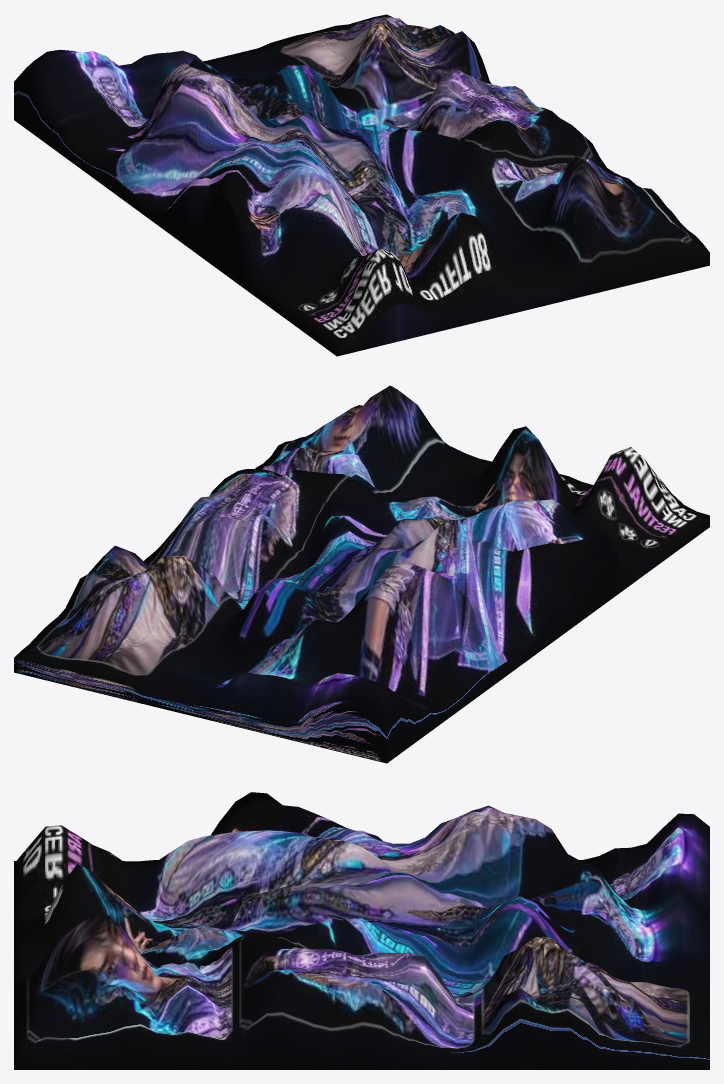
The model's file is CAREER_10_Outfit_08_Festival.glb.
3 renders of one model, top to bottom at view 1: azimuth 30°, elevation 25°; view 2: azimuth 150°, elevation 25°; view 3: azimuth 270°, elevation 25°, orthographic. The views are drawn at different scales.
Visible parts, largest first — view 1: CAREER_10_Outfit_08_Festival; view 2: CAREER_10_Outfit_08_Festival; view 3: CAREER_10_Outfit_08_Festival.
Part boxes in pixels (<box>): CAREER_10_Outfit_08_Festival: <box>14,14,709,356</box>; CAREER_10_Outfit_08_Festival: <box>14,385,709,763</box>; CAREER_10_Outfit_08_Festival: <box>14,792,709,1069</box>.
Size of the model in its own units: 2 by 0.51 by 3.
1 material, 1 textured.
